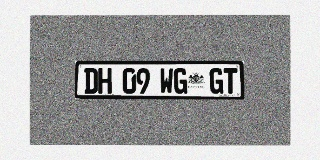0: (122, 68, 136, 94)
9: (136, 68, 150, 94)
D: (84, 68, 98, 94)
G: (174, 68, 187, 94), (210, 68, 223, 94)
H: (98, 68, 112, 94)
T: (224, 68, 237, 94)
W: (160, 68, 173, 94)
